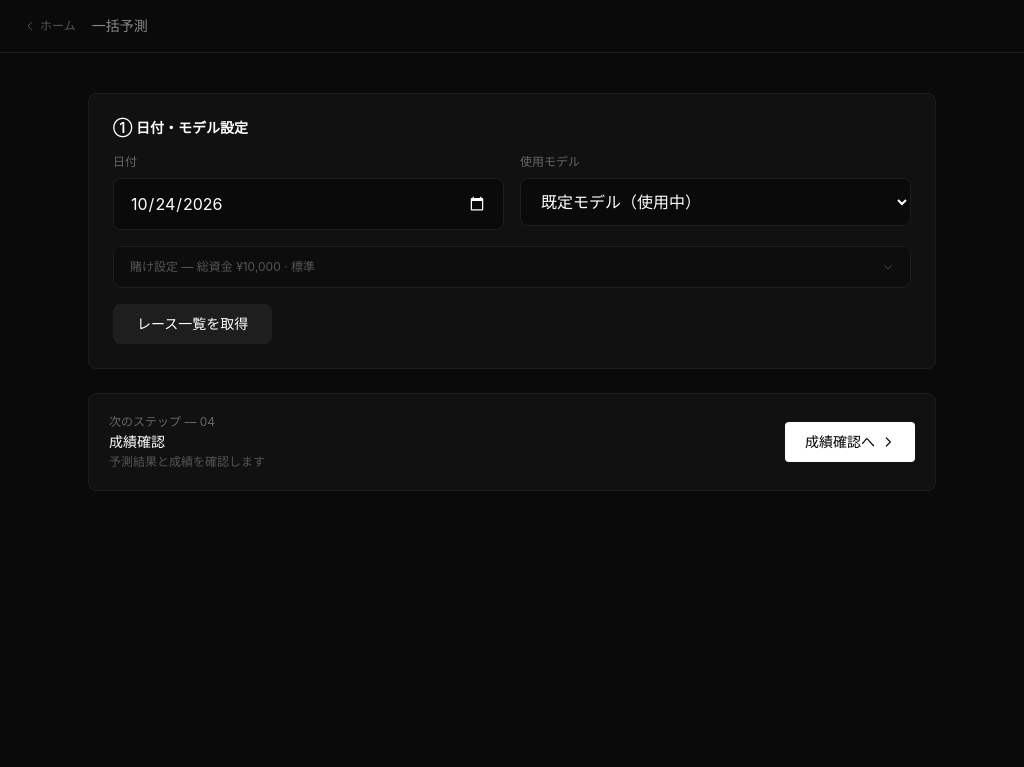
Test case: batch betting settings › rejects legacy cached recommendations and tells the user to reevaluate
This screenshot has width=1024, height=767.
What coordinates should you click on to do the following:
click the button "レース一覧を取得"
I would click on:
 (193, 324)
Its box is [113,304,272,344].
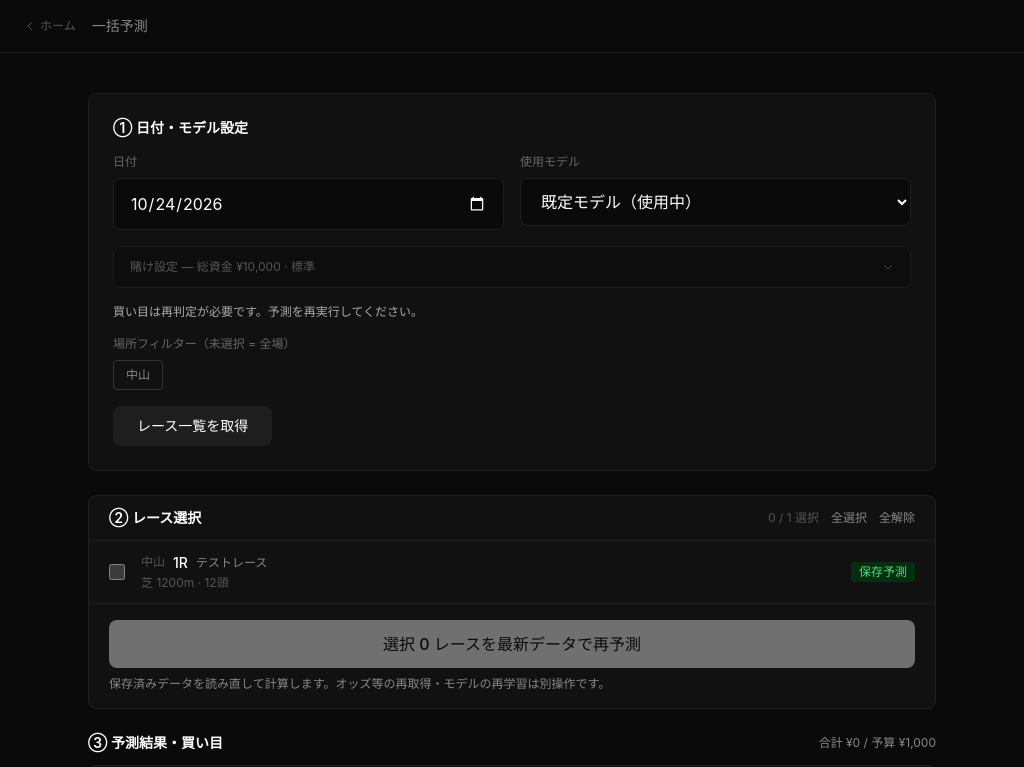
Expected: the text "買い目は再判定が必要です。予測を再実行してください。" is shown, [113,304,423,319]
